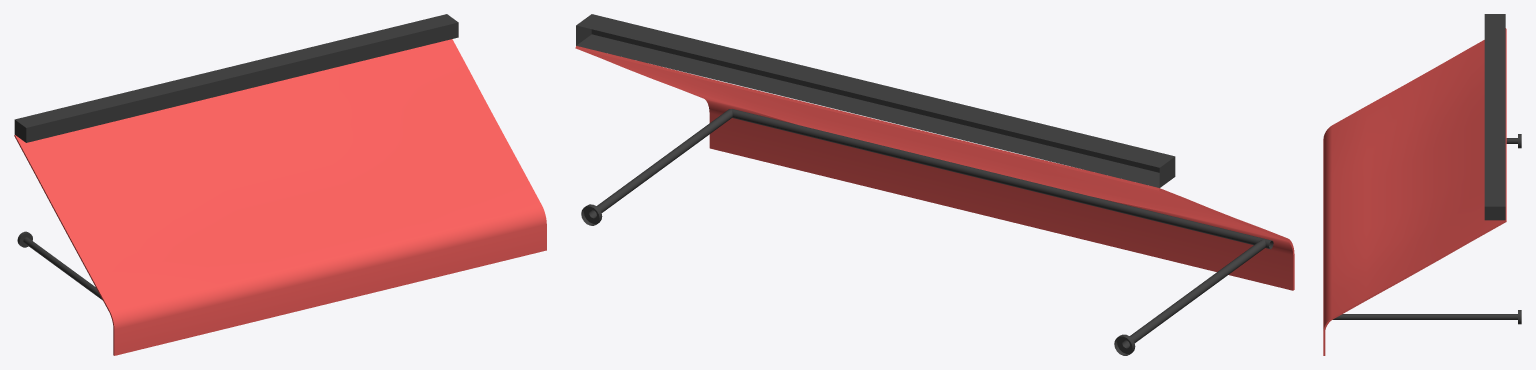
File: object_B3_GF_awning.glb
The picture shows the model from 3 angles, left to right: view 1: azimuth 30°, elevation 25°; view 2: azimuth 150°, elevation 25°; view 3: azimuth 270°, elevation 25°; orthographic projection. The views are drawn at different scales.
Visible parts, largest first — view 1: B3 GF awning; view 2: B3 GF awning; view 3: B3 GF awning.
Part boxes in pixels (box(x1,y1,x2,y2)): B3 GF awning: box(14, 14, 546, 355); B3 GF awning: box(575, 14, 1294, 355); B3 GF awning: box(1323, 14, 1521, 355).
Bounding box in the file's own units: 2.5 × 0.9033 × 1.09.
